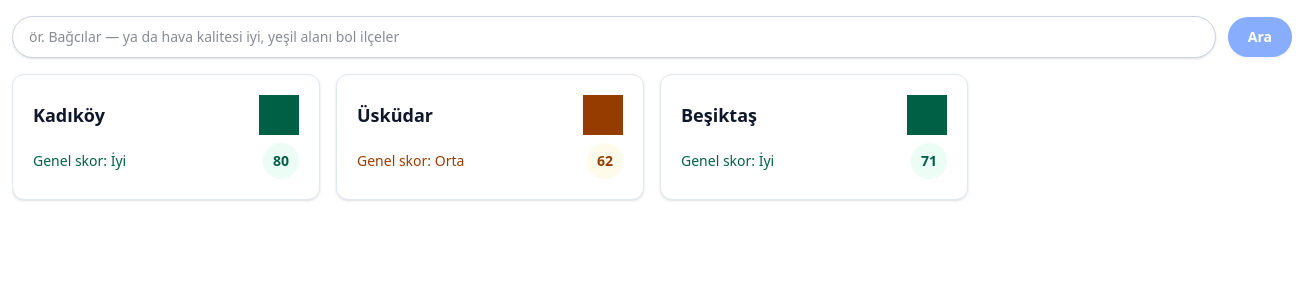
Test case: NeighborhoodSearchableList › still runs the preference search for a query that names no district
Replace the text in the field named "İlçe ara" with "hava kalitesi iyi olsun" at (614, 37), box [12,16,1216,58]
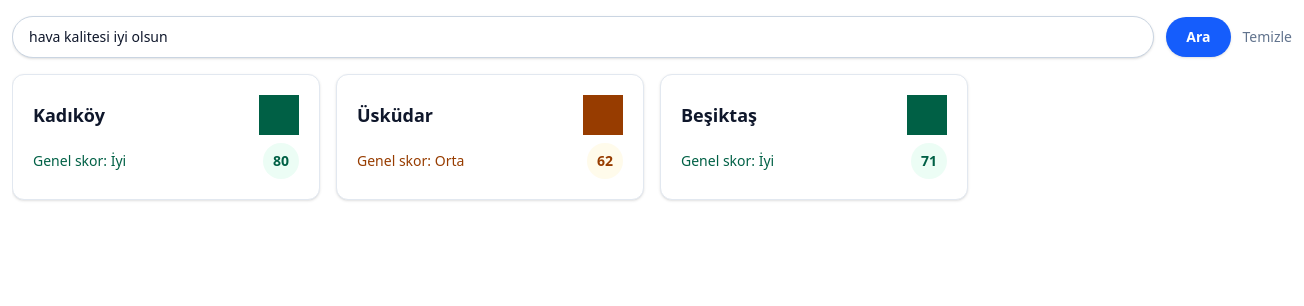
Click the button "Ara" at (1198, 37), box [1166,17,1230,57]
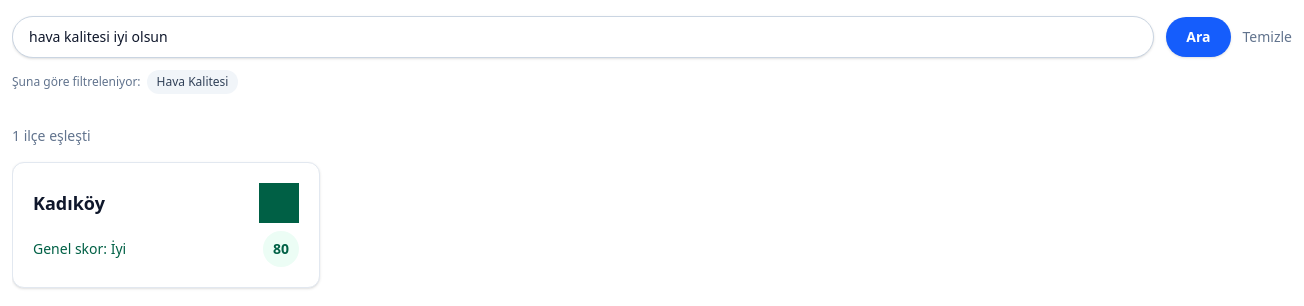
Check: the text "Kadıköy" is shown, box [33,189,105,217]
Check: the link "Üsküdar" is gone
